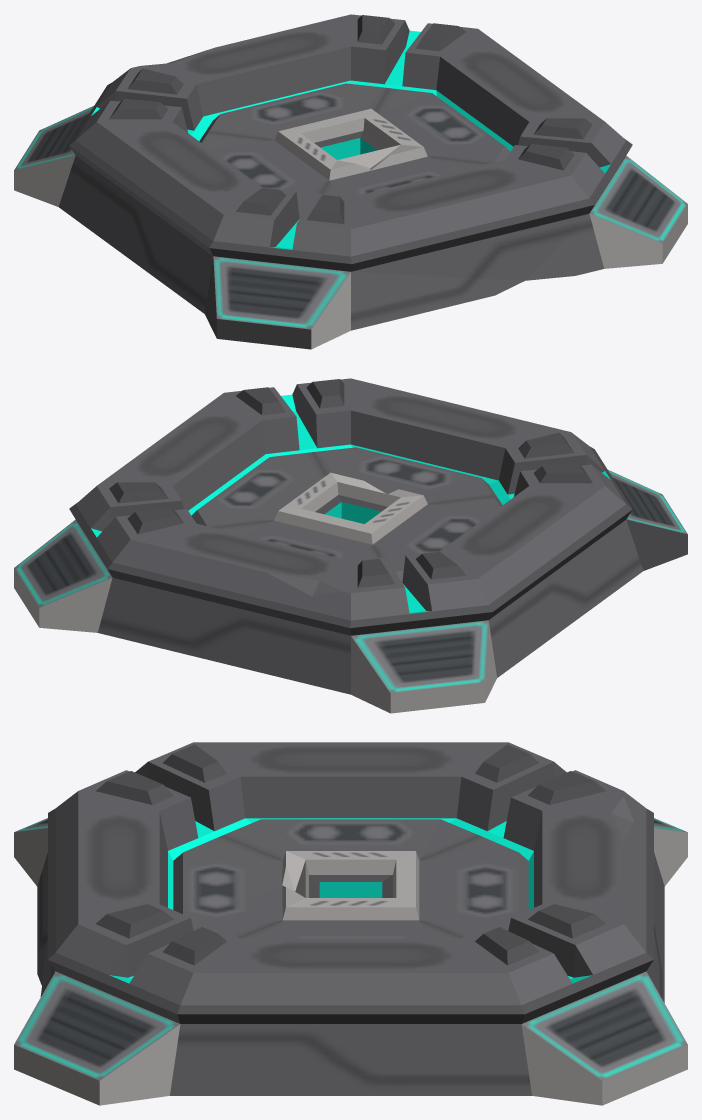
Rendered from SM_Prop_Manholes_03.fbx.
The picture shows the model from 3 angles, top to bottom: view 1: azimuth 30°, elevation 25°; view 2: azimuth 150°, elevation 25°; view 3: azimuth 270°, elevation 25°; orthographic projection. The views are drawn at different scales.
Visible parts, largest first — view 1: SM_Prop_Manholes_03; view 2: SM_Prop_Manholes_03; view 3: SM_Prop_Manholes_03.
Boxes of the visible parts, <box> form: SM_Prop_Manholes_03: <box>14,14,687,349</box>; SM_Prop_Manholes_03: <box>14,378,687,713</box>; SM_Prop_Manholes_03: <box>14,742,687,1105</box>.
Bounding box in the file's own units: 120 × 22.66 × 120.
